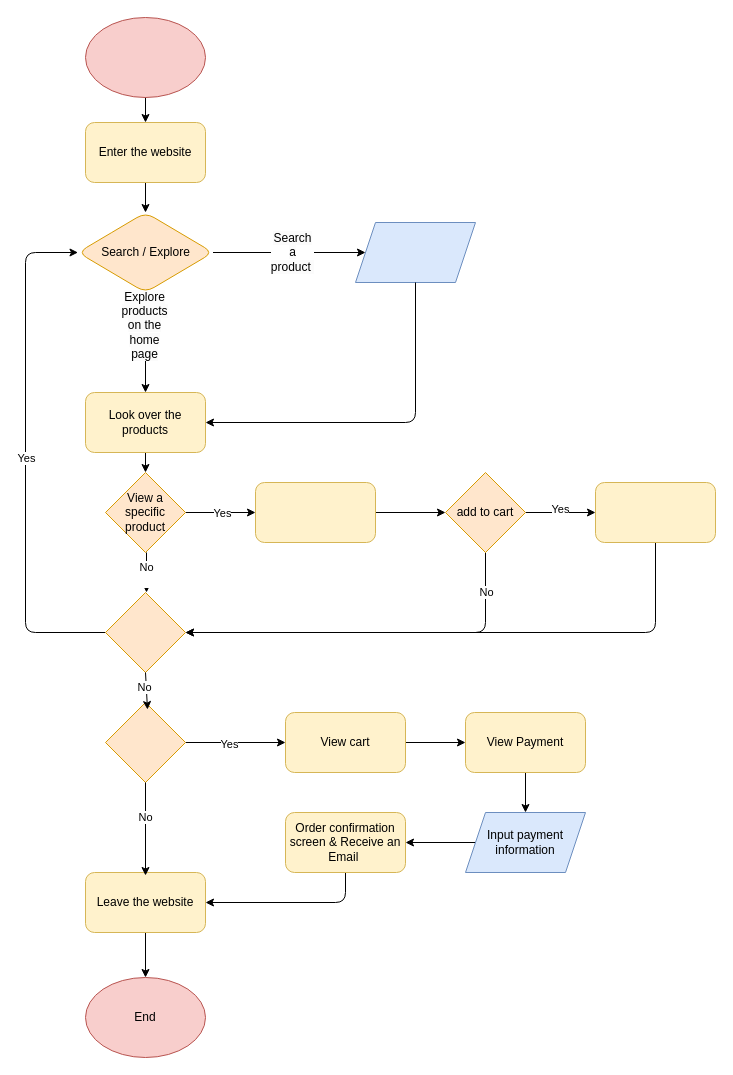
This 733x1075 diagram has some shape labels left out. The shapes that lost their labels are listed below. From the top down, each one's centre as x and y in pixels, then its label:
At (145,57): "Start".
At (415,252): "Input & search".
At (315,512): "product page".
At (655,512): "Confirmation".
At (145,632): "continue shopping".
At (145,742): "Checkout".
